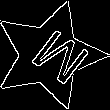M_SW: (14, 21, 85, 89)
